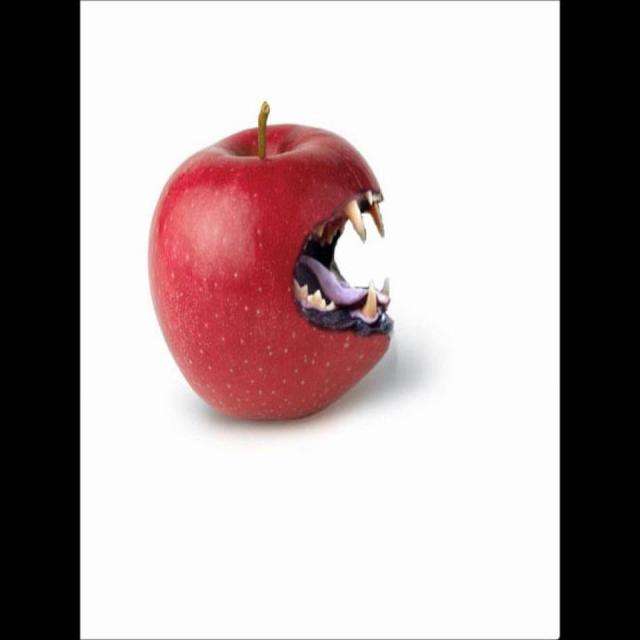apple: (147, 124, 393, 423)
